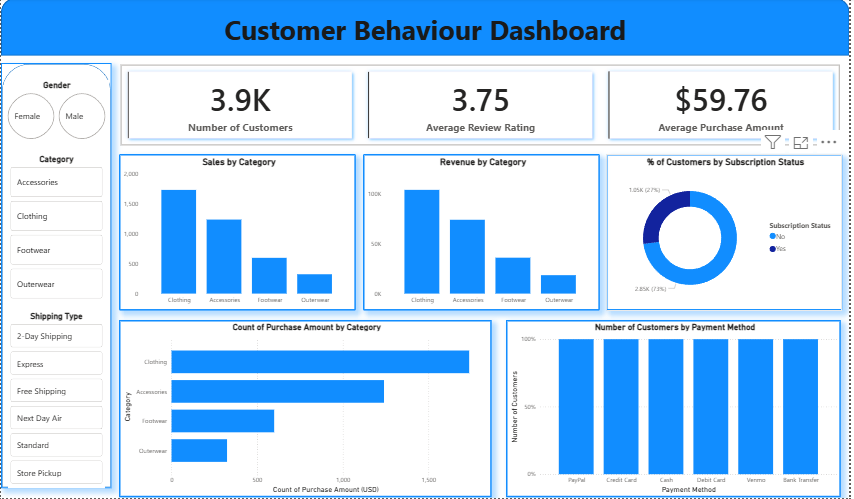

Layout of this report page (visuals, bound fields, positions):
{"tool":"powerbi","page":{"name":"Page 1","canvas":[1680,990],"ordinal":0},"visuals":[{"type":"shape","box":[0,0,1680,114.5],"z":0},{"type":"cardVisual","fields":{"Data":["customer_shopping_behavior.Number of Customers","customer_shopping_behavior.Average Review Rating","customer_shopping_behavior.Average Purchase Amount"]},"box":[219.2,114.5,1460.8,194],"z":1000},{"type":"donutChart","title":"% of Customers by Subscription Status","fields":{"Category":["customer_shopping_behavior.Subscription Status"],"Y":["CountNonNull(customer_shopping_behavior.Customer ID)"]},"box":[1197,308.5,467.5,310.4],"z":2000},{"type":"clusteredColumnChart","title":"Revenue by Category","fields":{"Y":["Sum(customer_shopping_behavior.Purchase Amount (USD))"],"Category":["customer_shopping_behavior.Category"]},"box":[715.9,308.5,469.5,310.4],"z":3000},{"type":"clusteredColumnChart","title":"Sales by Category","fields":{"Y":["CountNonNull(customer_shopping_behavior.Customer ID)"],"Category":["customer_shopping_behavior.Category"]},"box":[232.8,308.5,469.5,310.4],"z":4000},{"type":"shape","box":[0,128,219.2,842],"z":5000},{"type":"advancedSlicerVisual","fields":{"Values":["customer_shopping_behavior.Gender"]},"box":[7.8,163,205.6,122.2],"z":6000},{"type":"advancedSlicerVisual","fields":{"Values":["customer_shopping_behavior.Category"]},"box":[13.6,308.5,192.1,294.9],"z":7000},{"type":"advancedSlicerVisual","fields":{"Values":["customer_shopping_behavior.Shipping Type"]},"box":[13.6,618.9,192.1,351.1],"z":8000},{"type":"clusteredBarChart","title":"Count of Purchase Amount by Category","fields":{"Y":["CountNonNull(customer_shopping_behavior.Purchase Amount (USD))"],"Category":["customer_shopping_behavior.Category"]},"box":[233.5,638.5,737.7,351.3],"z":8001},{"type":"hundredPercentStackedColumnChart","fields":{"Y":["customer_shopping_behavior.Number of Customers"],"Category":["customer_shopping_behavior.Payment Method"]},"box":[1000.1,638.5,663.3,351.3],"z":8002}]}

Visuals, with their boxes in screenshot pixels (x1, y1, x2, y2), scaled from the page's 1680x990 canvas onto the 854x499 screenshot:
shape: crop(0, 0, 853, 58)
cardVisual - customer_shopping_behavior.Number of Customers x customer_shopping_behavior.Average Review Rating: crop(111, 58, 853, 155)
"% of Customers by Subscription Status" donutChart: crop(608, 155, 846, 312)
"Revenue by Category" clusteredColumnChart: crop(364, 155, 603, 312)
"Sales by Category" clusteredColumnChart: crop(118, 155, 357, 312)
shape: crop(0, 65, 111, 489)
advancedSlicerVisual - customer_shopping_behavior.Gender: crop(4, 82, 108, 144)
advancedSlicerVisual - customer_shopping_behavior.Category: crop(7, 155, 105, 304)
advancedSlicerVisual - customer_shopping_behavior.Shipping Type: crop(7, 312, 105, 489)
"Count of Purchase Amount by Category" clusteredBarChart: crop(119, 322, 494, 498)
hundredPercentStackedColumnChart - customer_shopping_behavior.Number of Customers x customer_shopping_behavior.Payment Method: crop(508, 322, 846, 498)
